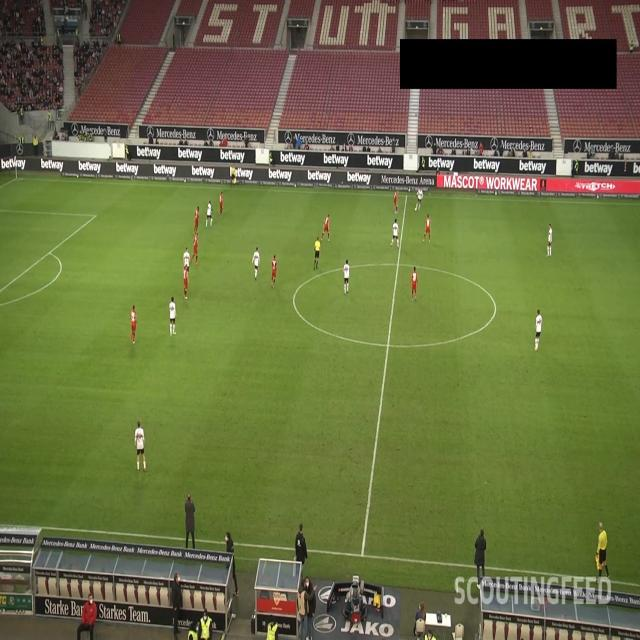ball: (414, 207, 417, 212)
